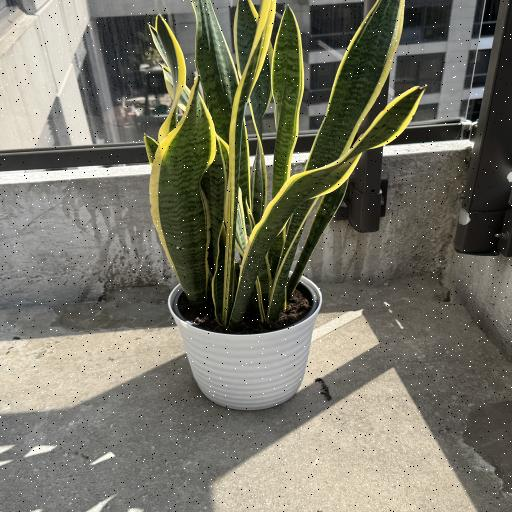Plant Pot: (167, 265, 324, 411)
